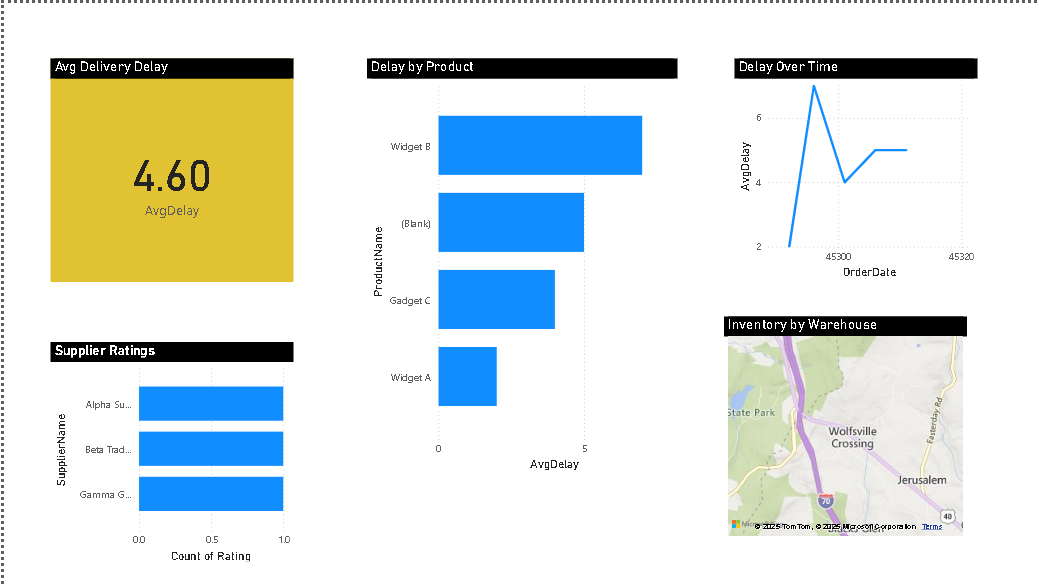

This screenshot's page, from the dashboard's own definition file:
{"tool":"powerbi","page":{"name":"Page 1","canvas":[1280,720],"ordinal":0},"visuals":[{"type":"barChart","title":"Delay by Product","fields":{"Category":["Products.ProductName"],"Y":["Inventory.AvgDelay"]},"box":[448.1,68.5,383.3,513],"z":0},{"type":"card","title":"Avg Delivery Delay","fields":{"Values":["Inventory.AvgDelay"]},"box":[57.4,68.5,300,275.9],"z":1},{"type":"lineChart","title":"Delay Over Time","fields":{"Category":["Orders.OrderDate"],"Y":["Inventory.AvgDelay"]},"box":[901.9,68.5,300,275.9],"z":2},{"type":"map","title":"Inventory by Warehouse","fields":{"Category":["Inventory.WarehouseID","Orders.ProductID","Inventory.StockLevel"]},"box":[888.9,387,300,275.9],"z":3},{"type":"clusteredBarChart","title":"Supplier Ratings","fields":{"Category":["Suppliers.SupplierName"],"Y":["CountNonNull(Suppliers.Rating)"]},"box":[57.4,418.5,300,275.9],"z":4}]}

Visuals, with their boxes in screenshot pixels (x1, y1, x2, y2), scaled from the page's 1280x720 canvas onto the 1039x585 screenshot:
"Delay by Product" barChart: rect(364, 56, 675, 472)
"Avg Delivery Delay" card: rect(47, 56, 290, 280)
"Delay Over Time" lineChart: rect(732, 56, 976, 280)
"Inventory by Warehouse" map: rect(722, 314, 965, 539)
"Supplier Ratings" clusteredBarChart: rect(47, 340, 290, 564)
